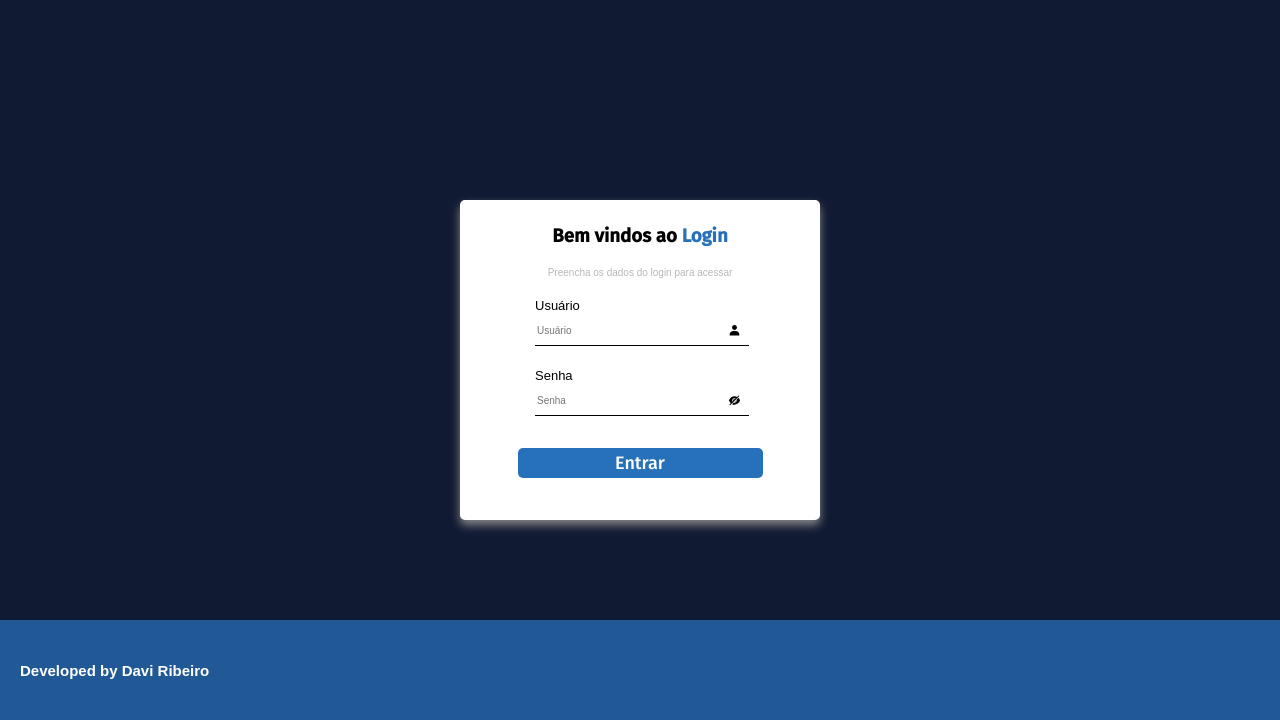
Componente <CardLogin /> › Deve ser renderizado um erro ao tentar logar com informações incorretas
The width and height of the screenshot is (1280, 720).
Type "Davi" into the field with placeholder "Usuário".
click(642, 330); type("Davi")  # box [535,313,749,346]
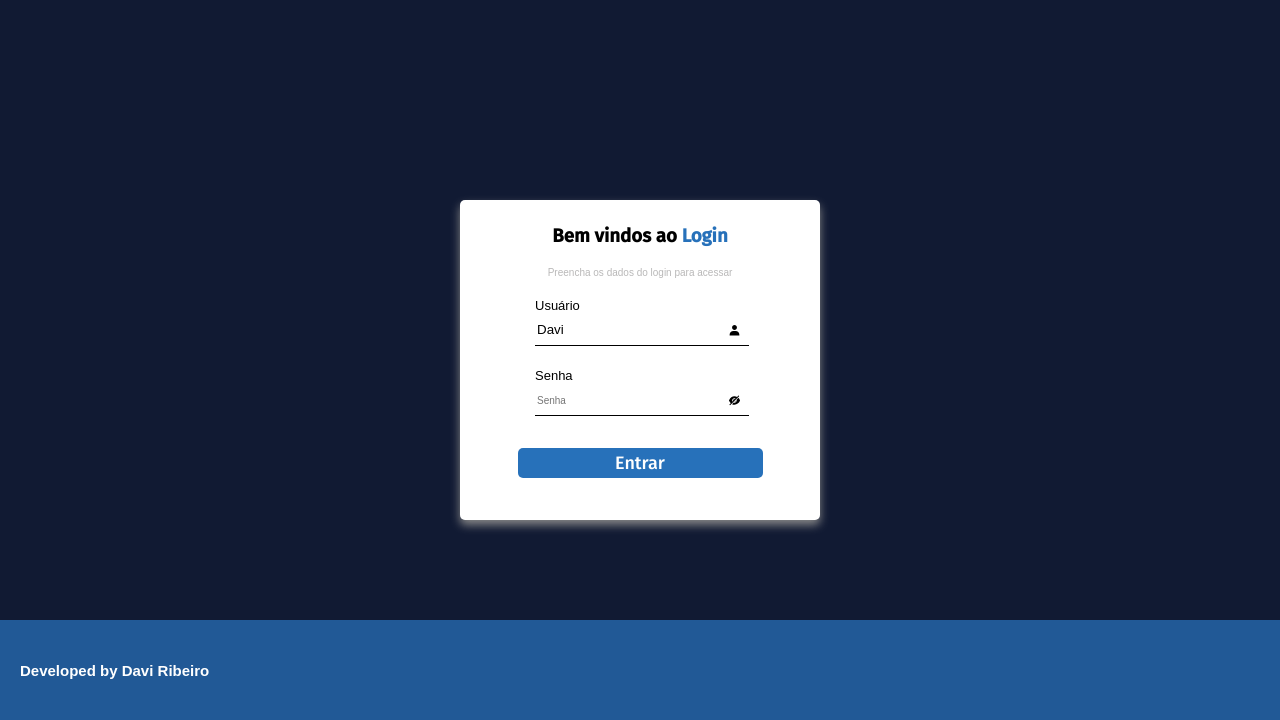
Type "12" into the password field with placeholder "Senha".
click(642, 400); type("12")  # box [535,383,749,416]
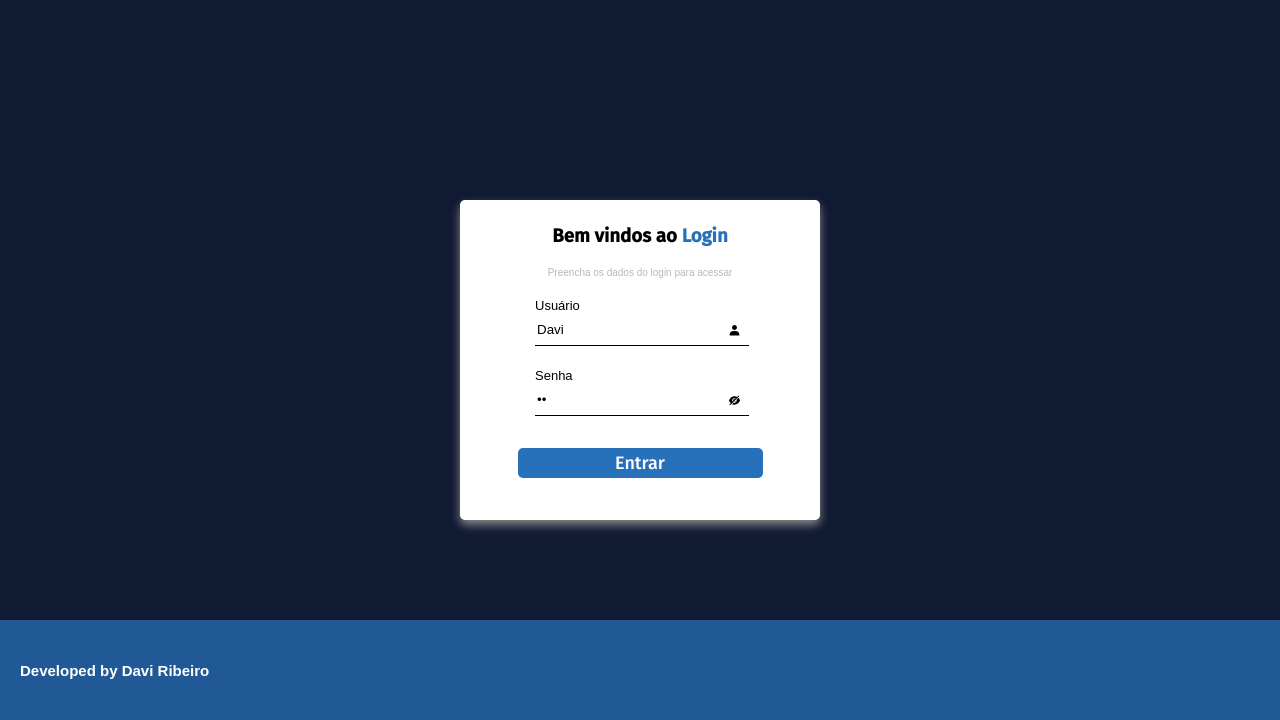
Click the button.
click(640, 463)  # box [518,448,762,478]
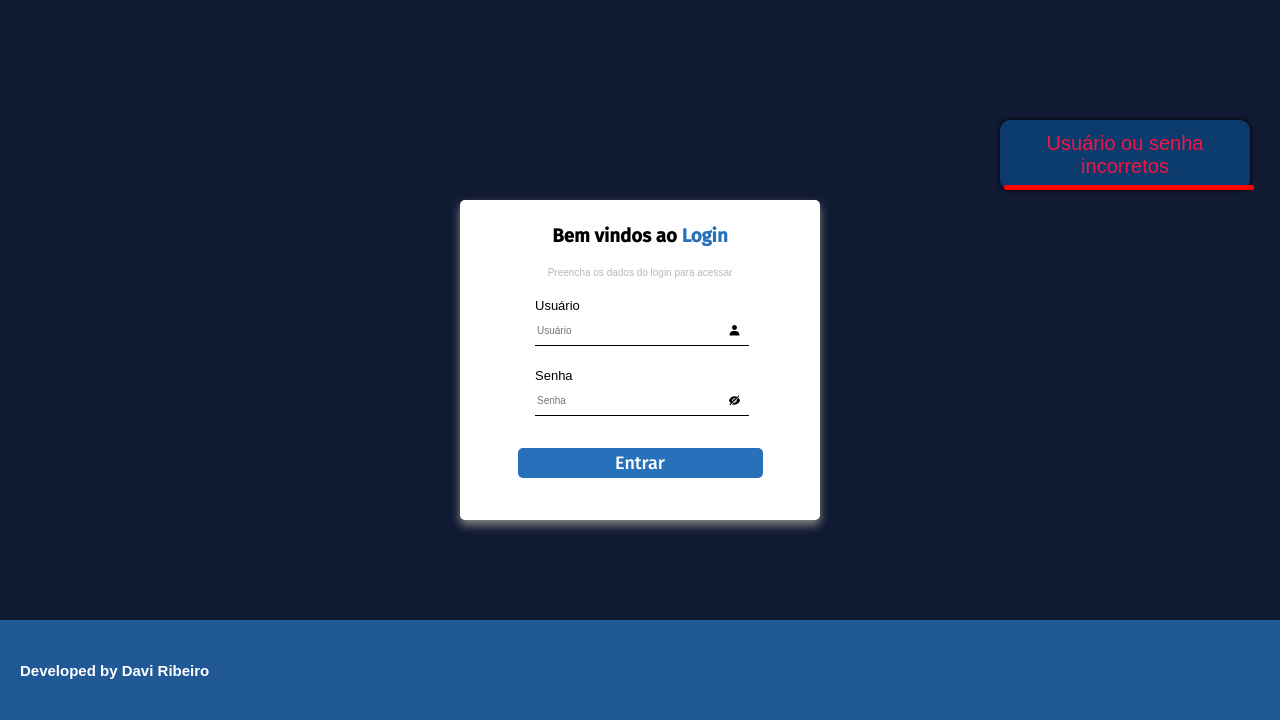
Expected: the text "Usuário ou senha incorretos" is shown, [1047,132,1203,177]
